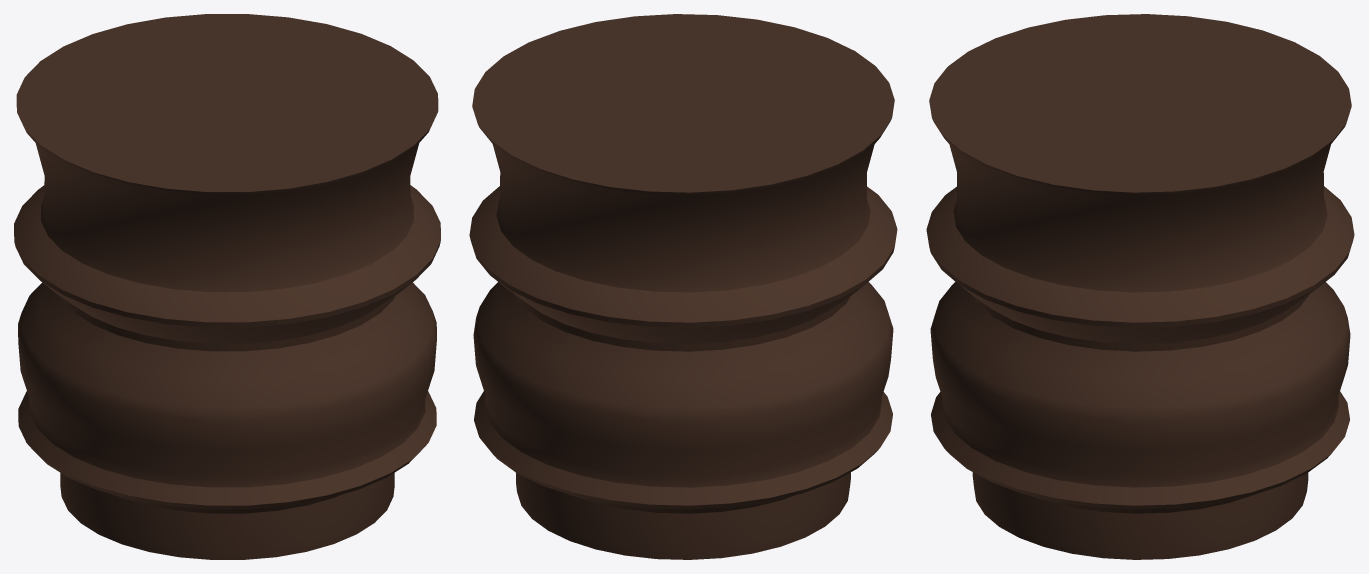
File: TowerRing_02_Prototyp_Mesh.fbx
The picture shows the model from 3 angles, left to right: view 1: azimuth 30°, elevation 25°; view 2: azimuth 150°, elevation 25°; view 3: azimuth 270°, elevation 25°; orthographic projection.
Visible parts, largest first — view 1: Cylinder.029; view 2: Cylinder.029; view 3: Cylinder.029.
Boxes of the visible parts, bbox=[...] form: Cylinder.029: bbox=[14, 14, 440, 559]; Cylinder.029: bbox=[469, 14, 897, 559]; Cylinder.029: bbox=[926, 14, 1354, 559].
Bounding box in the file's own units: 676 × 673 × 676.
